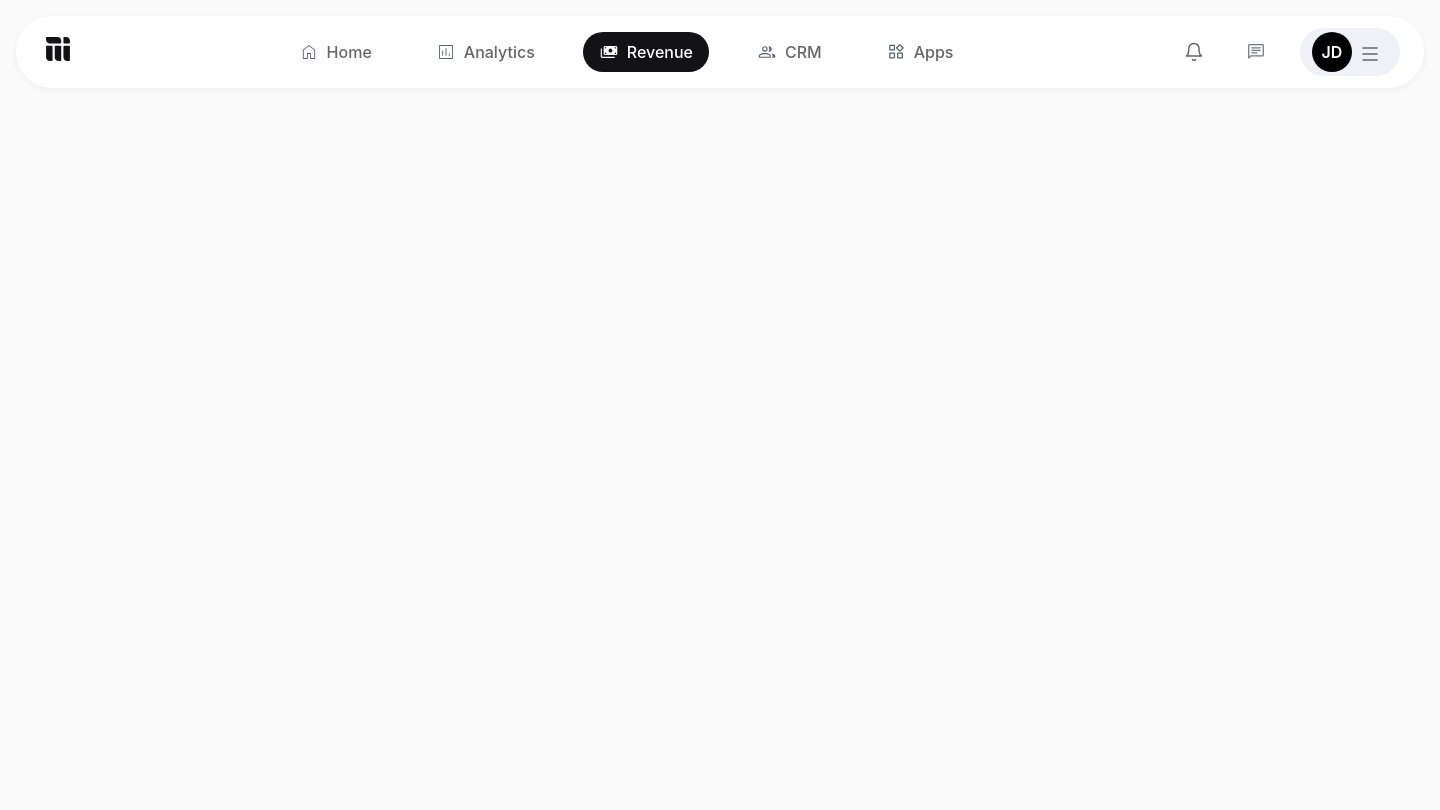
Test: Header Dropdown › opens dropdown when hamburger button is clicked
Click the button named "menu" at (1370,52), box [1352,34,1388,70]
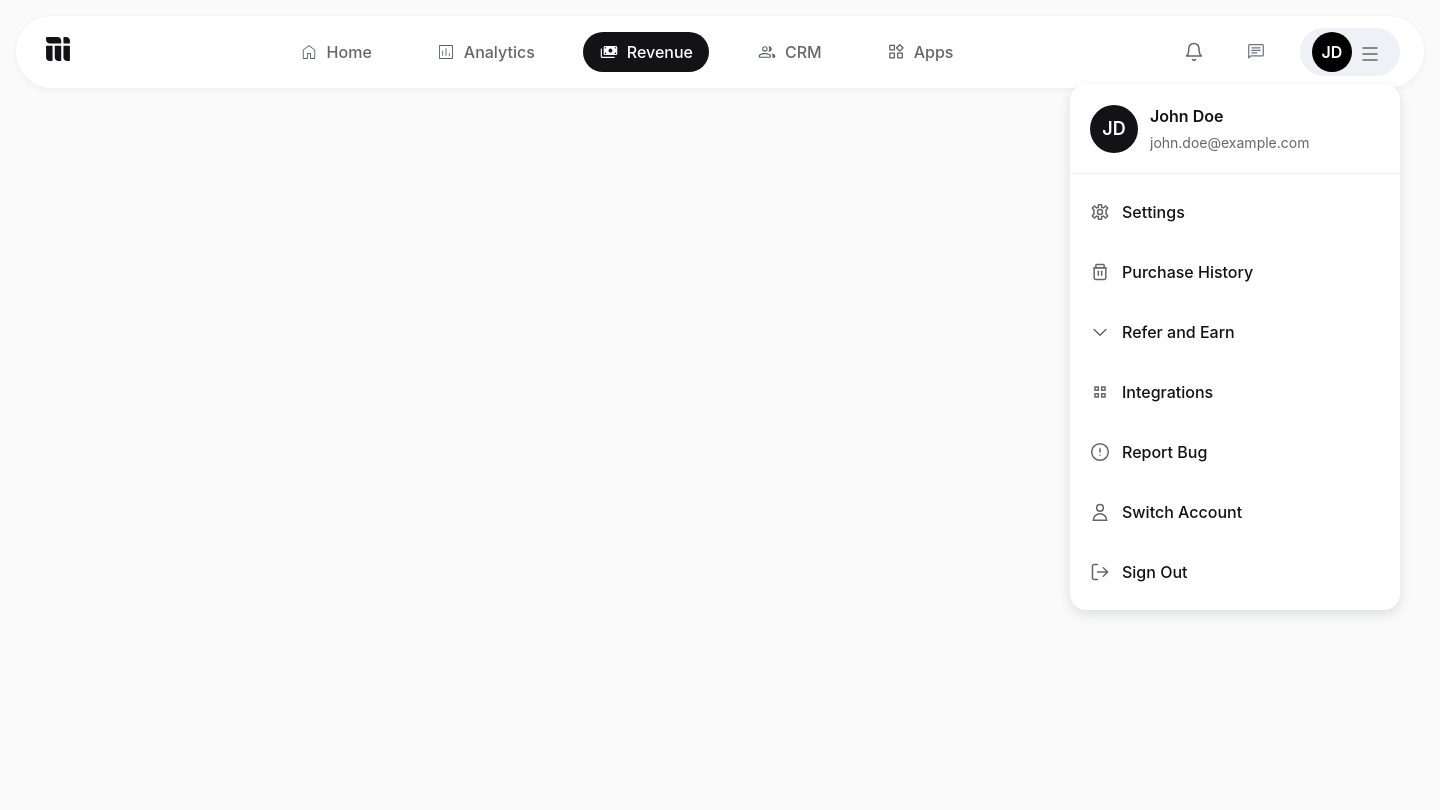
expect the menu named "user menu" is shown: met, box [1070,84,1400,610]
